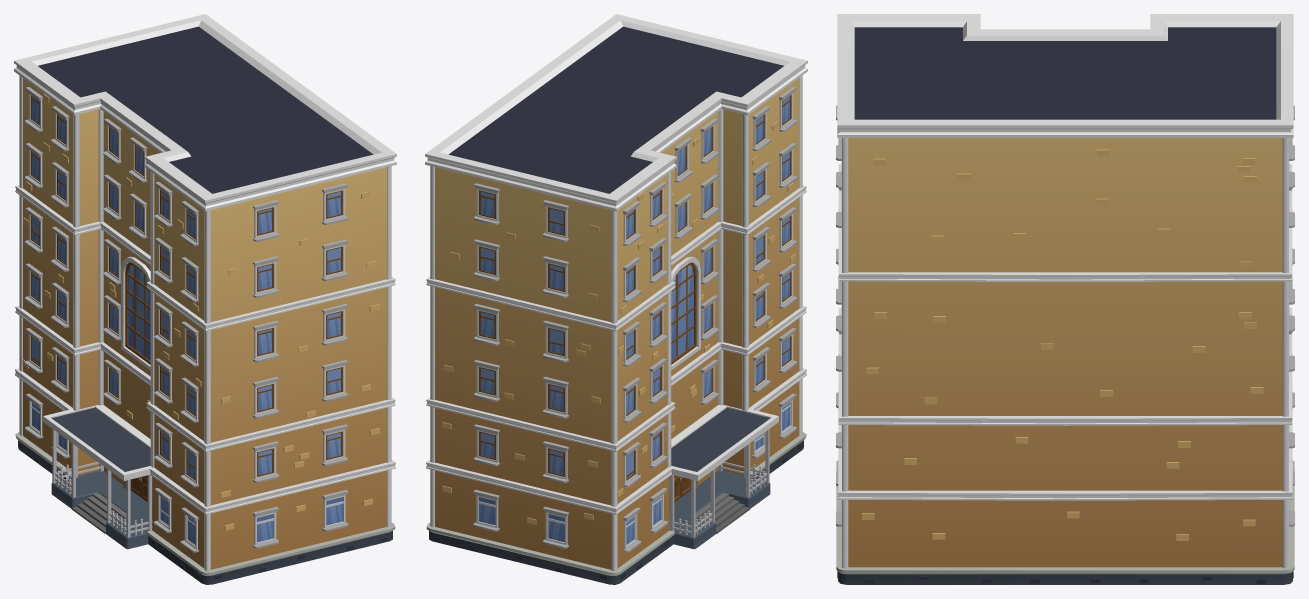
File: Building_5_4_M.fbx
3 views of the same model, side by side, from view 1: azimuth 30°, elevation 25°; view 2: azimuth 150°, elevation 25°; view 3: azimuth 270°, elevation 25° (orthographic). The views are drawn at different scales.
Parts seen in each view (by area): view 1: Building_5_4_M; view 2: Building_5_4_M; view 3: Building_5_4_M.
Boxes of the visible parts, left/top/right/bottom form: Building_5_4_M: left=14, top=14, right=396, bottom=584; Building_5_4_M: left=425, top=14, right=807, bottom=584; Building_5_4_M: left=836, top=14, right=1294, bottom=584.
Bounding box in the file's own units: 1251 × 2109 × 1908.
